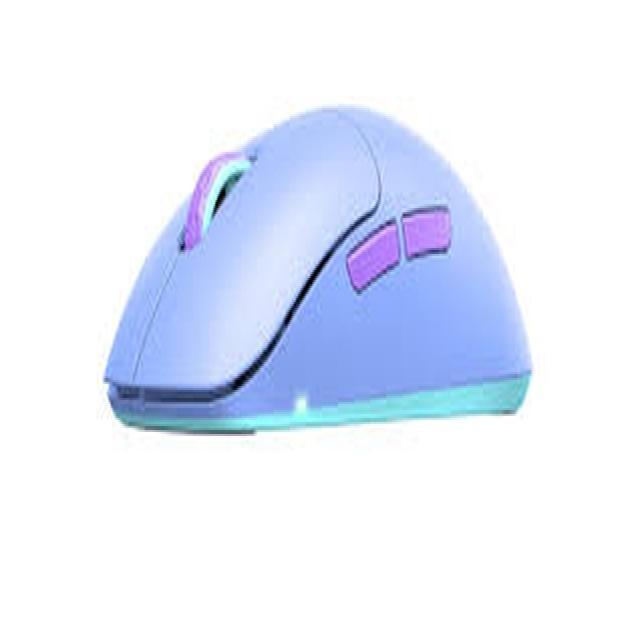mouse: (90, 74, 547, 467)
